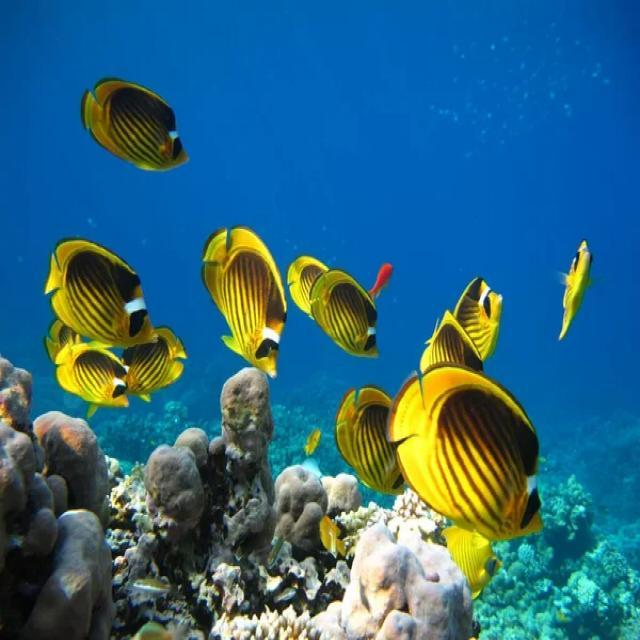ButterflyFish: (379, 360, 558, 541), (187, 207, 294, 396), (68, 59, 192, 186), (316, 388, 421, 520), (40, 232, 164, 338), (308, 283, 424, 378), (548, 226, 615, 383), (442, 246, 514, 369), (54, 335, 135, 415), (424, 522, 502, 596), (138, 319, 188, 408), (296, 248, 342, 328), (20, 304, 84, 360)
